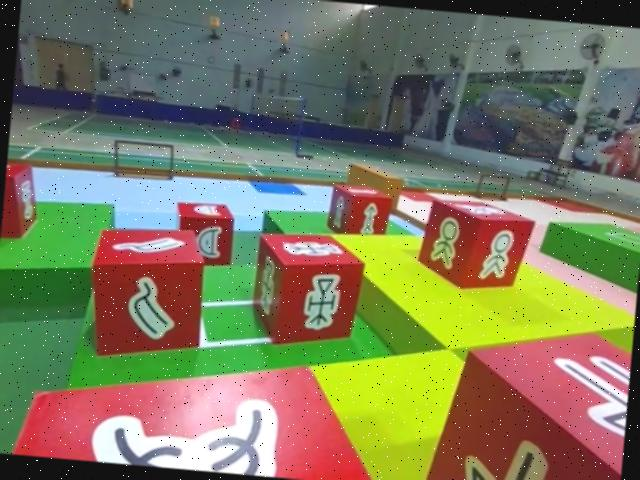R2 Real: (0, 335, 401, 480), (417, 312, 633, 480), (84, 218, 208, 362), (245, 225, 371, 349), (415, 193, 534, 292), (169, 197, 241, 269), (326, 178, 395, 239), (0, 156, 45, 242)
